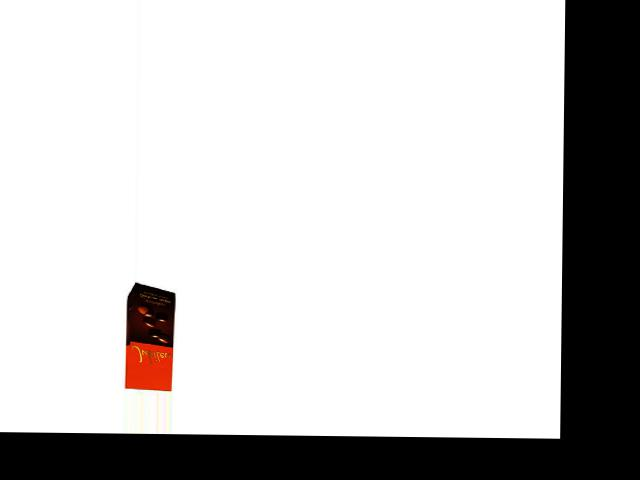chocolate: (122, 283, 181, 390)
